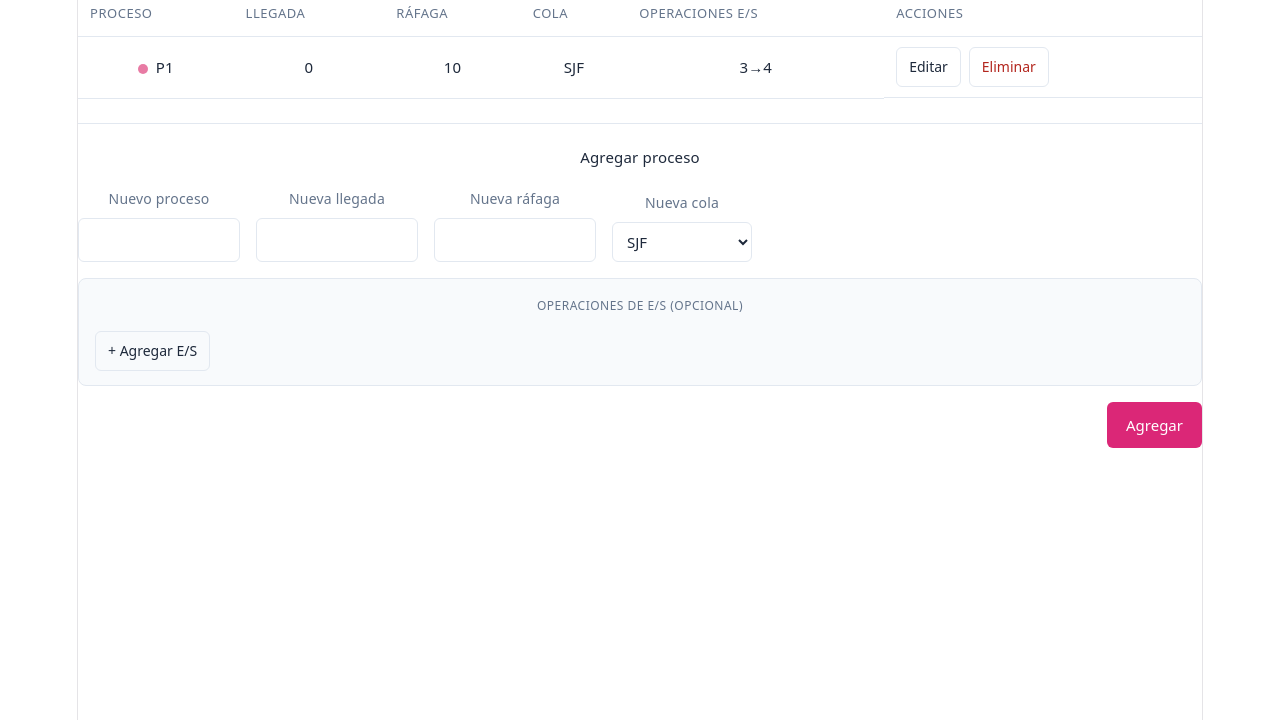
it: ProcessTable › multi-op I/O list editor › editing a legacy process (ioBurstTime/ioTriggerAfter) pre-populates the io operations list with one row
Click the button "Editar". click: coordinates (928, 67)
box: left=896, top=47, right=961, bottom=87
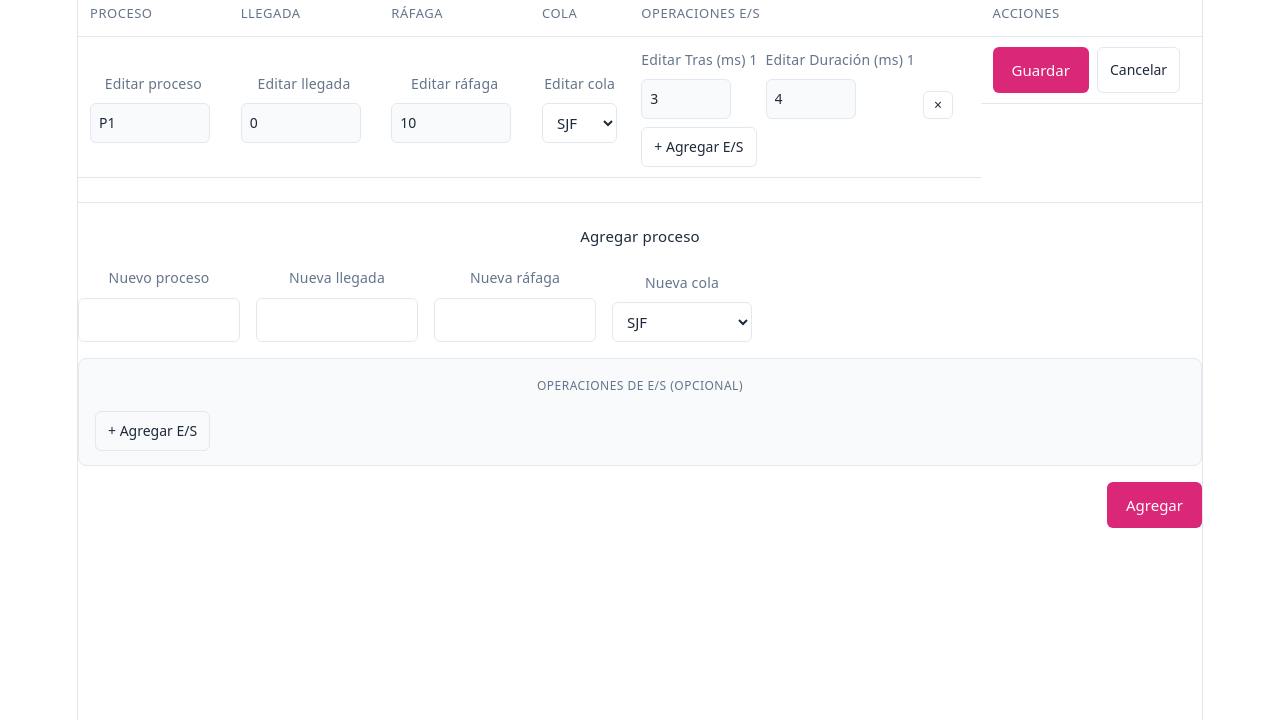
Check: the field labelled "Editar Tras (ms) 1" holds "3", box left=641, top=79, right=731, bottom=119
Check: the field labelled "Editar Duración (ms) 1" holds "4", box left=766, top=79, right=856, bottom=119
